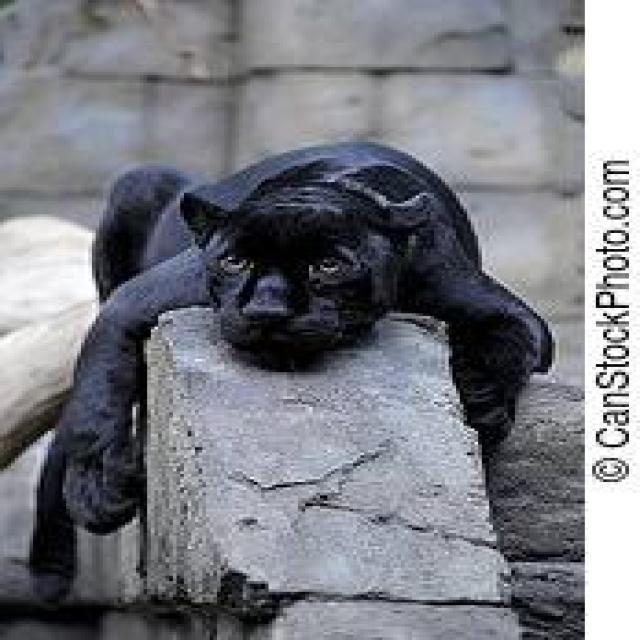Jaguar: (30, 137, 559, 610)
